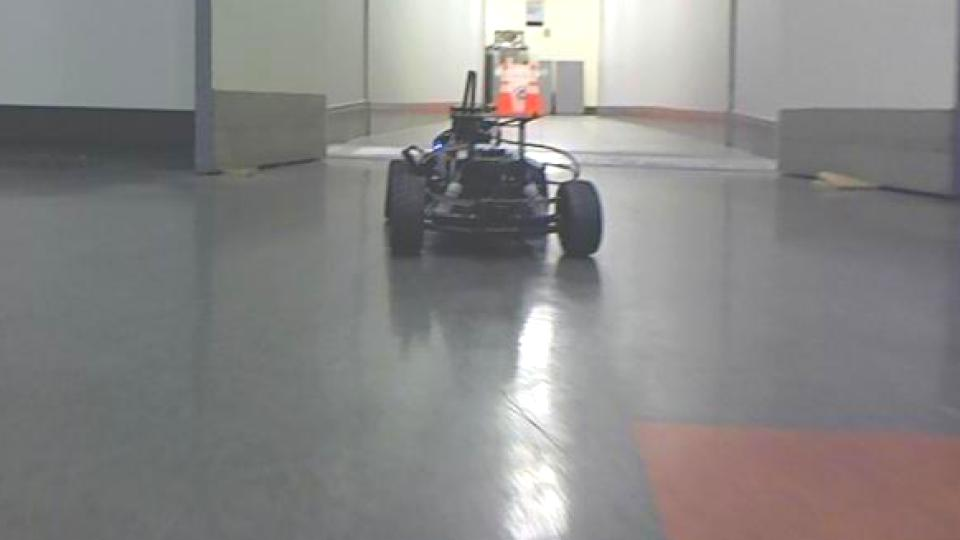car: (381, 68, 609, 263)
